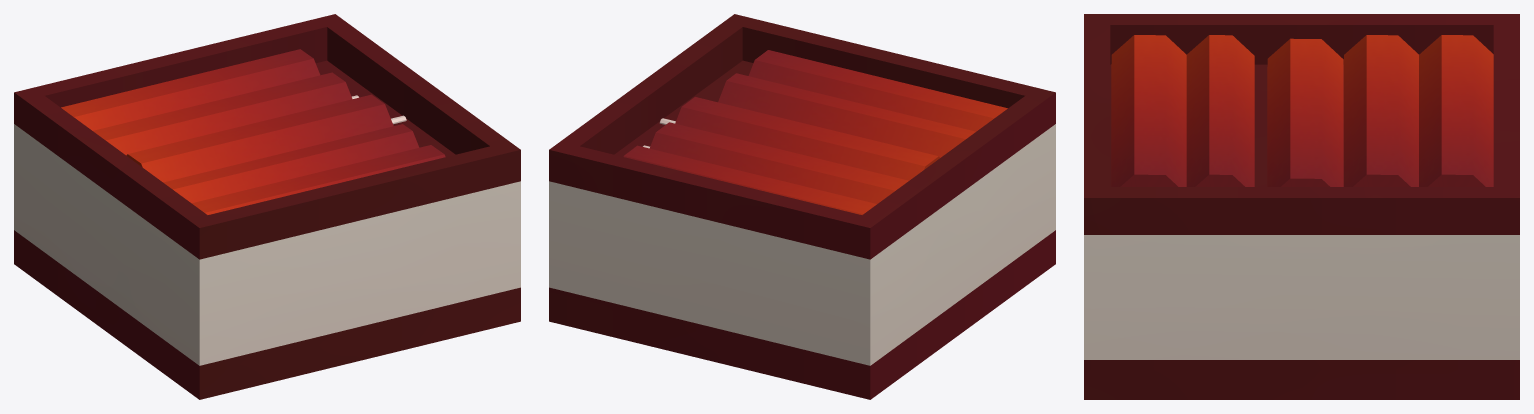
The model's file is Prop_BoxofSausages.fbx.
The picture shows the model from 3 angles, left to right: view 1: azimuth 30°, elevation 25°; view 2: azimuth 150°, elevation 25°; view 3: azimuth 270°, elevation 25°; orthographic projection. The views are drawn at different scales.
Parts seen in each view (by area): view 1: BoxofSausages; view 2: BoxofSausages; view 3: BoxofSausages.
Boxes of the visible parts, x1,y1,x2,y2 form: BoxofSausages: [14, 14, 520, 399]; BoxofSausages: [549, 14, 1055, 399]; BoxofSausages: [1084, 14, 1519, 399].
Bounding box in the file's own units: 38.14 × 19.49 × 38.14.
